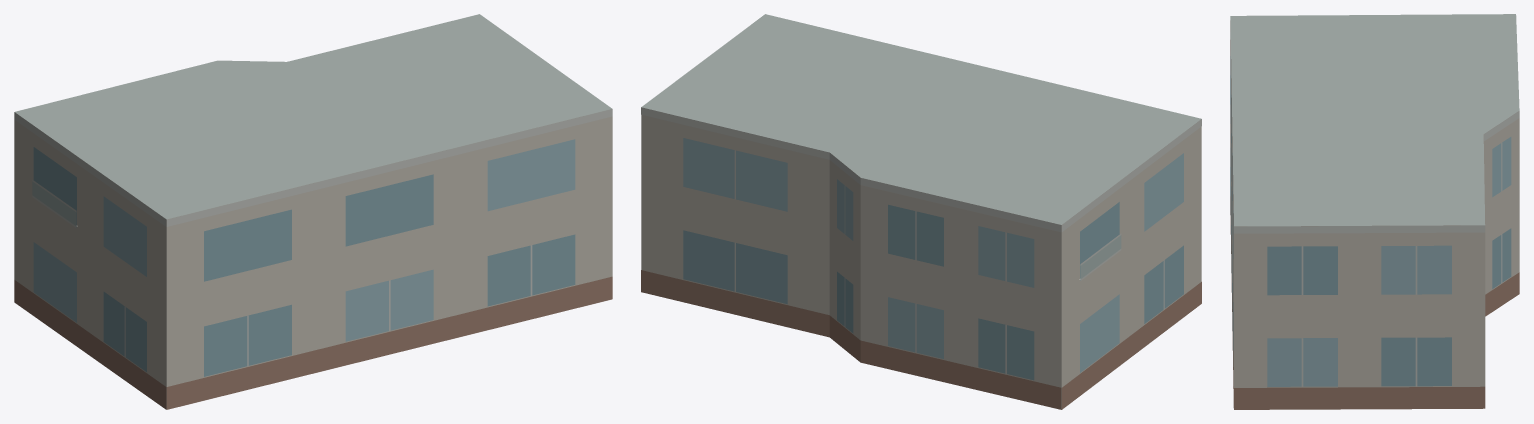
File: survey-upis-32547386.glb
3 renders of one model, left to right at view 1: azimuth 30°, elevation 25°; view 2: azimuth 150°, elevation 25°; view 3: azimuth 270°, elevation 25°, orthographic. The views are drawn at different scales.
Visible parts, largest first — view 1: survey-upis-32547386.tmp; view 2: survey-upis-32547386.tmp; view 3: survey-upis-32547386.tmp.
Boxes of the visible parts, x1=… form: survey-upis-32547386.tmp: x1=14, y1=14, x2=612, y2=409; survey-upis-32547386.tmp: x1=641, y1=14, x2=1201, y2=409; survey-upis-32547386.tmp: x1=1230, y1=14, x2=1519, y2=409.
Bounding box in the file's own units: 15.18 × 6.1 × 8.73.
